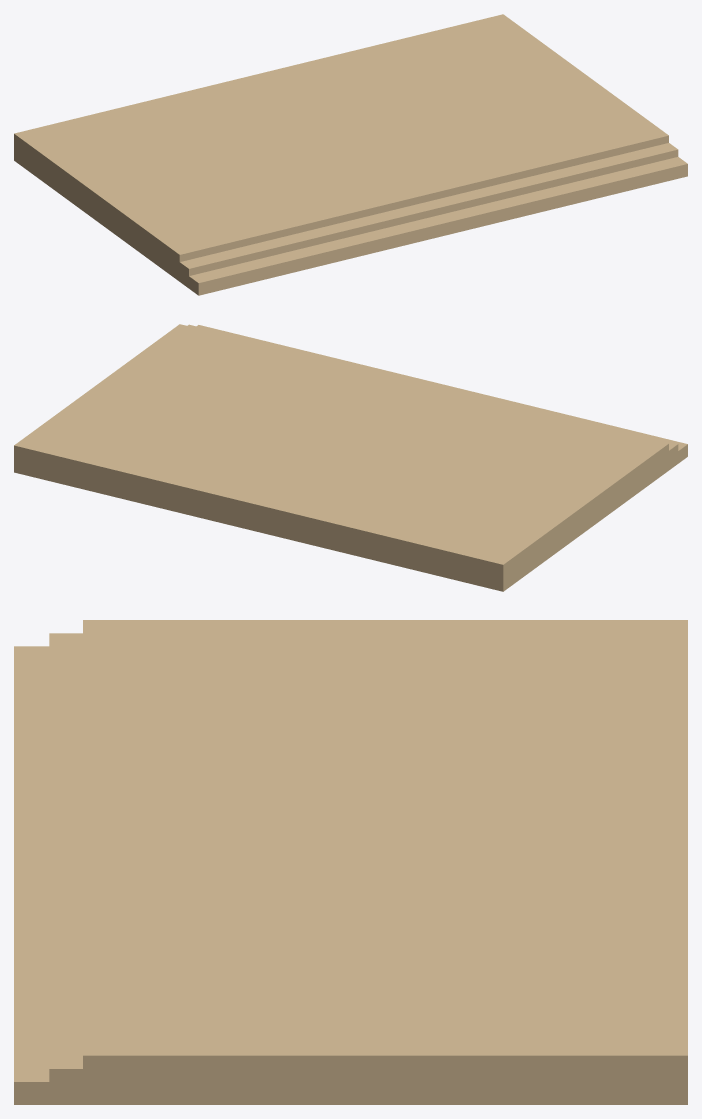
The model's file is Steps53.fbx.
3 renders of one model, top to bottom at view 1: azimuth 30°, elevation 25°; view 2: azimuth 150°, elevation 25°; view 3: azimuth 270°, elevation 25°, orthographic. The views are drawn at different scales.
Parts seen in each view (by area): view 1: Steps; view 2: Steps; view 3: Steps.
Part boxes in pixels (box(x1,y1,x2,y2)): Steps: box(14, 14, 687, 295); Steps: box(14, 324, 687, 591); Steps: box(14, 620, 687, 1104).
Bounding box in the file's own units: 925 × 1415 × 74.63.
